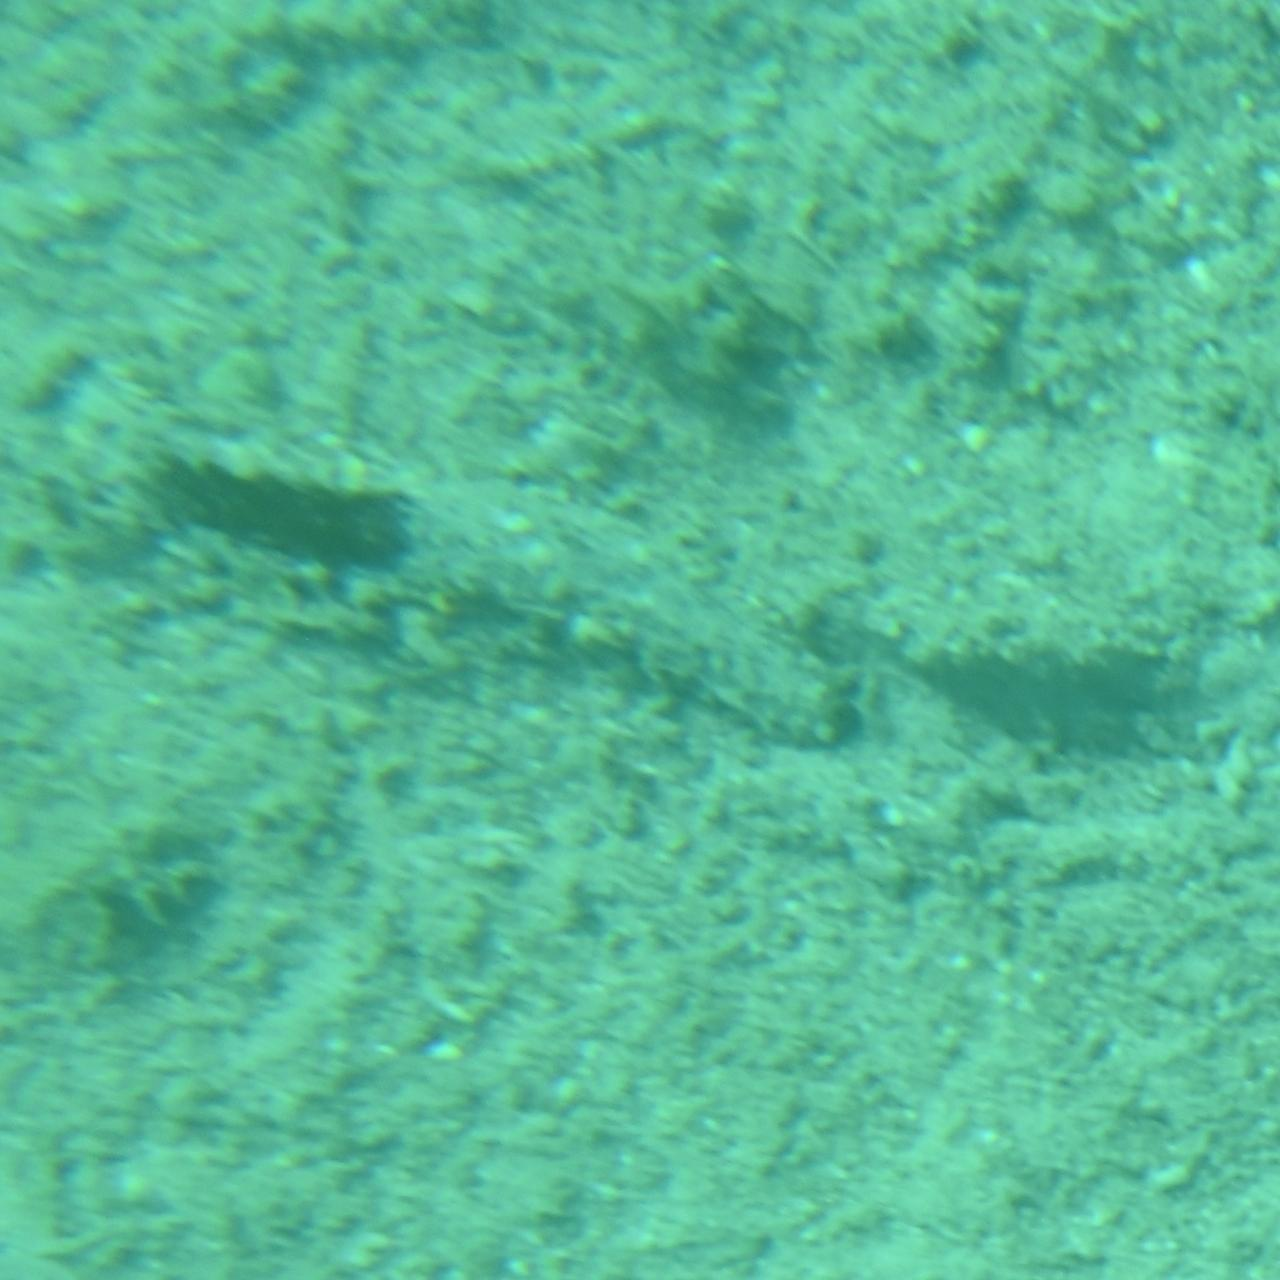Holothuria tubulosa: (408, 514, 872, 766)
